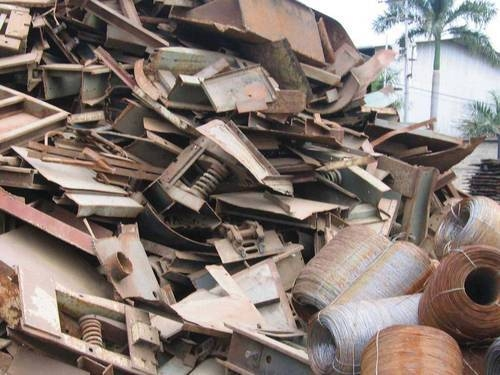metal: (4, 267, 177, 375), (298, 292, 465, 374), (15, 131, 153, 217), (285, 218, 408, 311), (73, 216, 175, 312), (416, 240, 500, 340), (186, 56, 294, 122), (209, 319, 333, 375), (359, 319, 470, 375), (168, 140, 241, 211), (202, 214, 294, 267), (425, 188, 500, 253)
